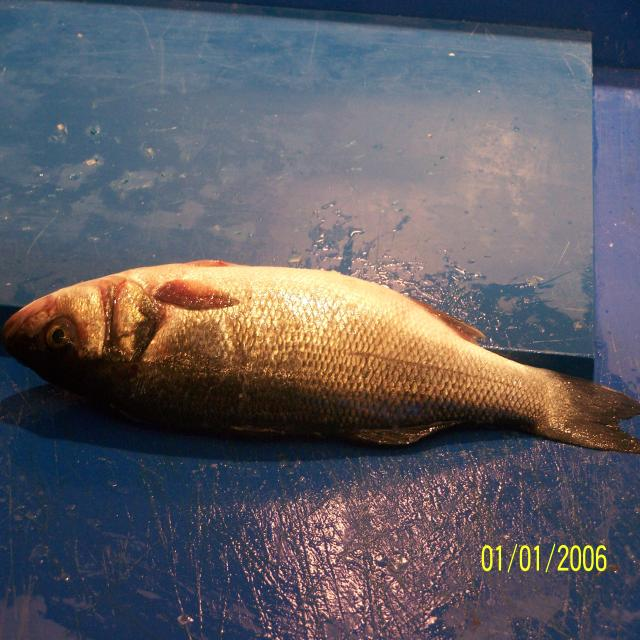Sea-Bass-levrek-: (0, 261, 640, 456)
